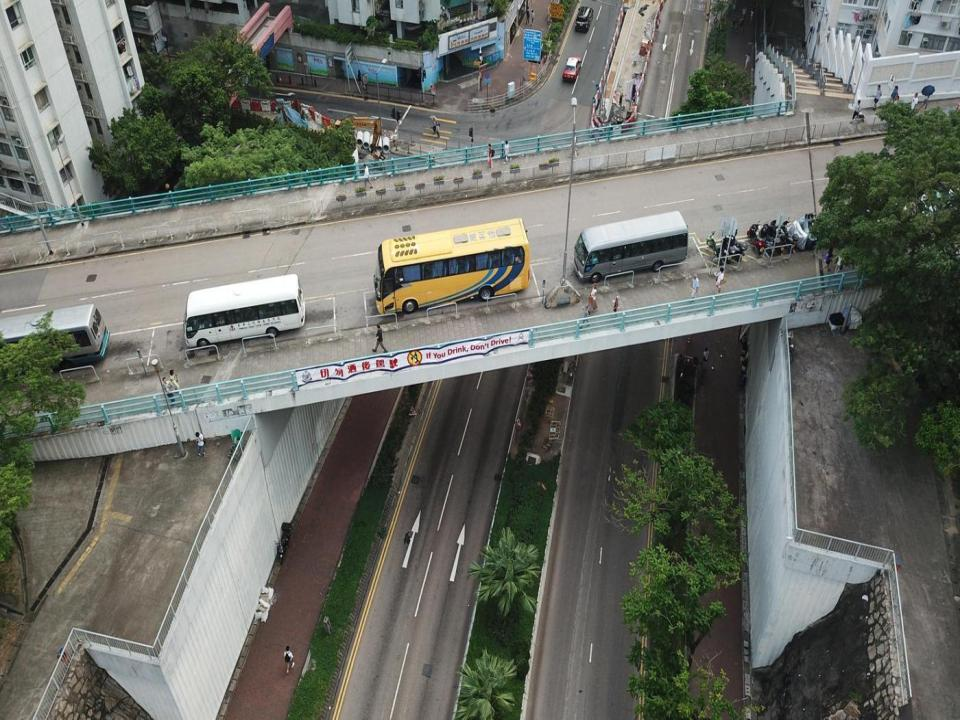bus: (373, 219, 531, 316), (182, 273, 306, 346), (572, 210, 688, 282), (0, 304, 110, 364)
car: (564, 53, 580, 81)
van: (576, 5, 592, 34)
